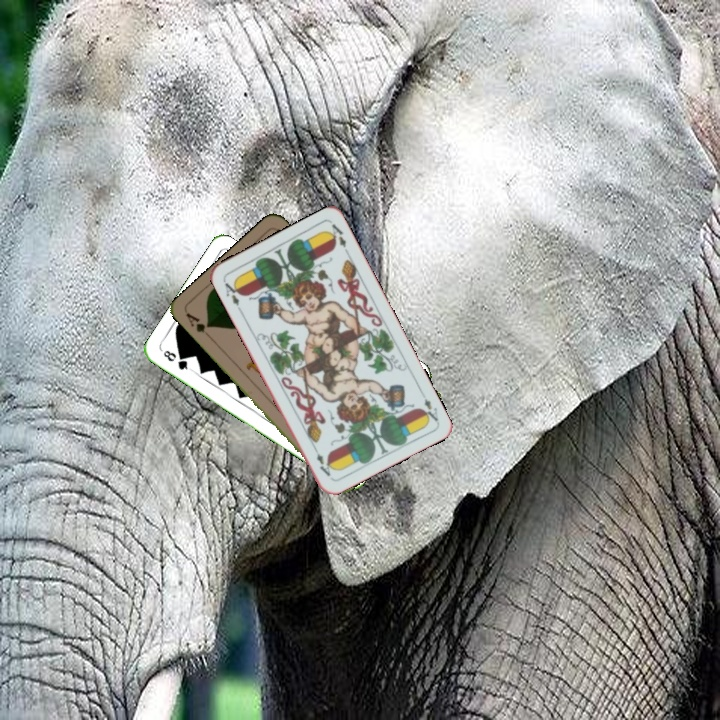EA: (219, 277, 245, 315), (416, 387, 441, 425)
G8: (159, 346, 194, 373)
GA: (182, 309, 214, 342)
